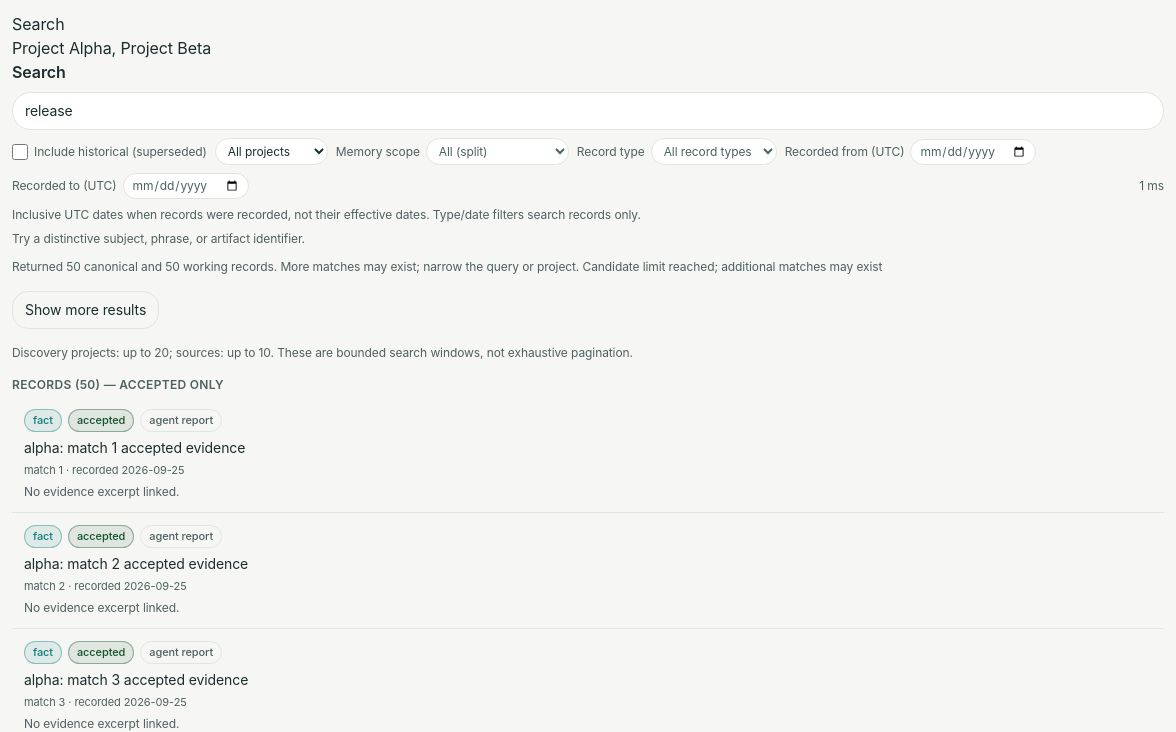
Test case: record filters and bounded result windows › offers 50, 100, 150, 200 only and explains the per-group cap and separate discovery limits
What coordinates should you click on to do the following:
click the button "Show more results"
I would click on:
 (86, 310)
Its box is top-left (12, 291), bottom-right (159, 329).
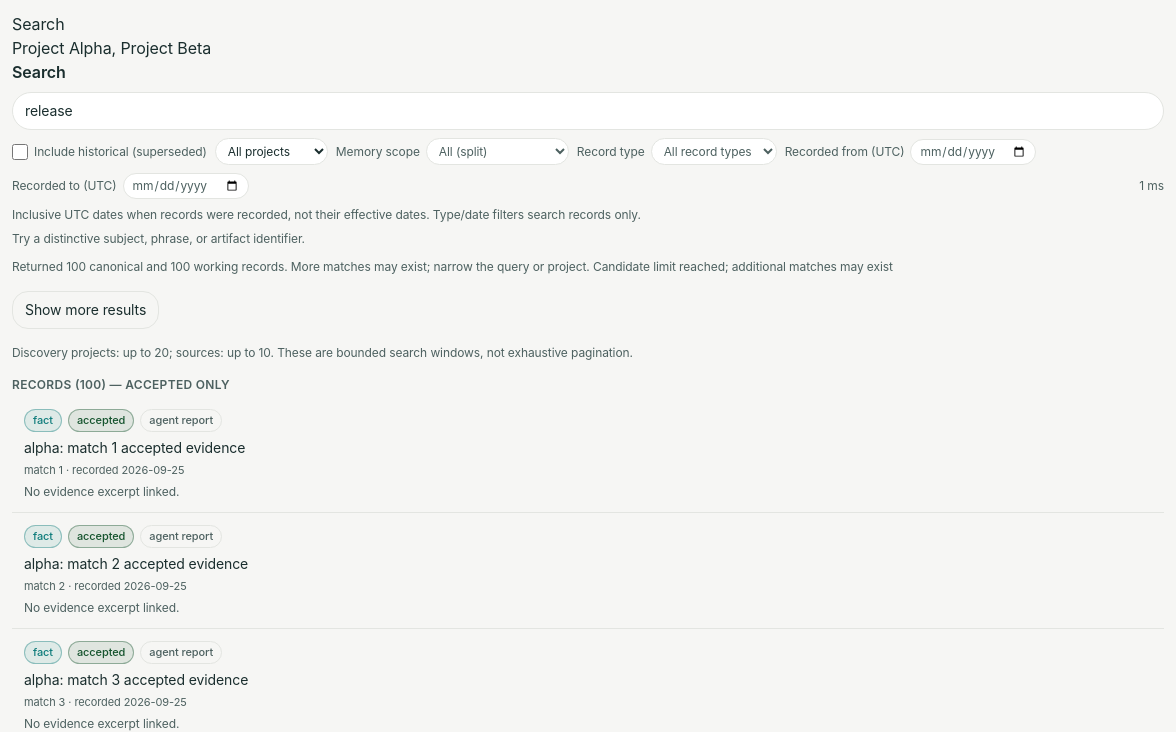
What coordinates should you click on to do the following:
click the button "Show more results"
I would click on:
 (86, 310)
Its box is top-left (12, 291), bottom-right (159, 329).
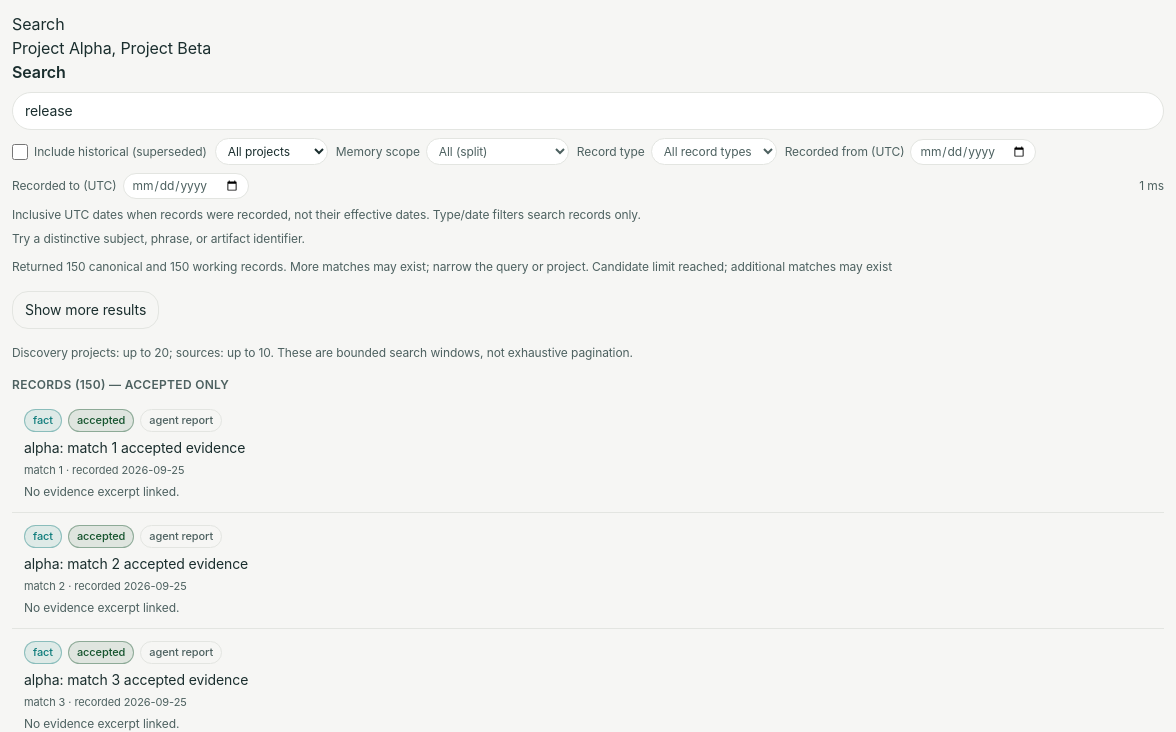
What coordinates should you click on to do the following:
click the button "Show more results"
I would click on:
 (86, 310)
Its box is top-left (12, 291), bottom-right (159, 329).
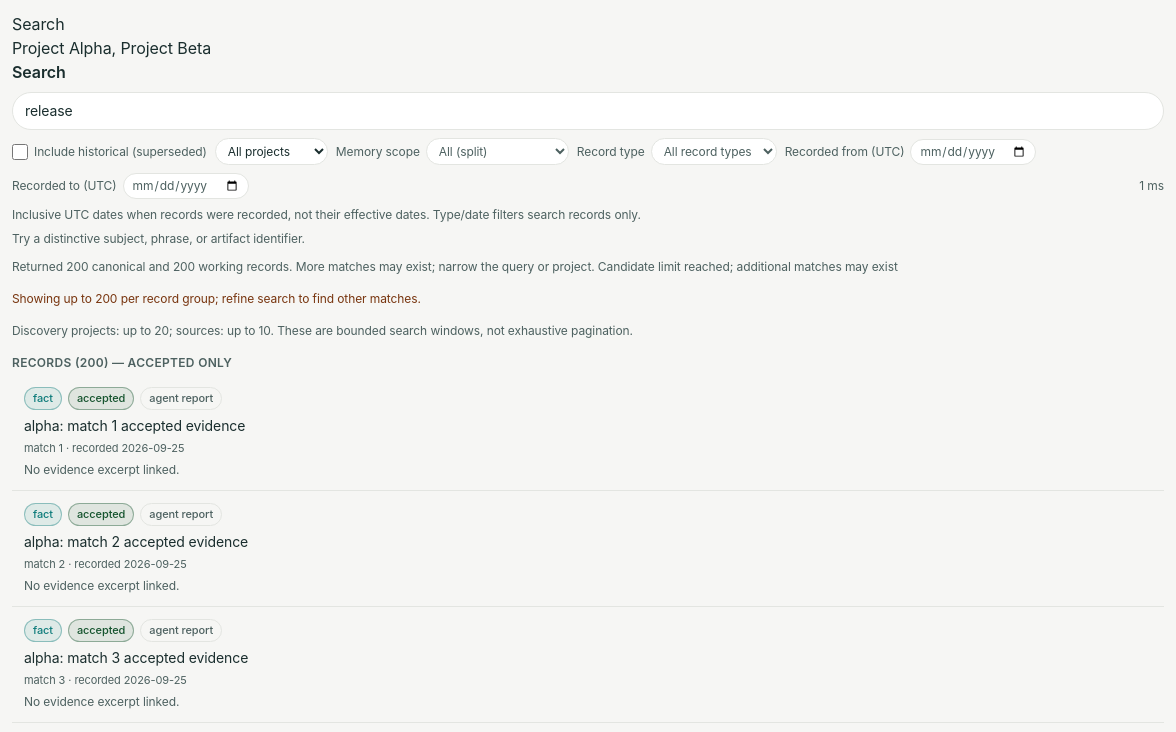
Now the text "Showing up to 200 per record group; refine search to find other matches." is shown, box top-left (12, 291), bottom-right (421, 306)
Now the text "Candidate limit reached; additional matches may exist" is shown, box top-left (598, 259), bottom-right (898, 274)
Now the button "Show more results" is gone
